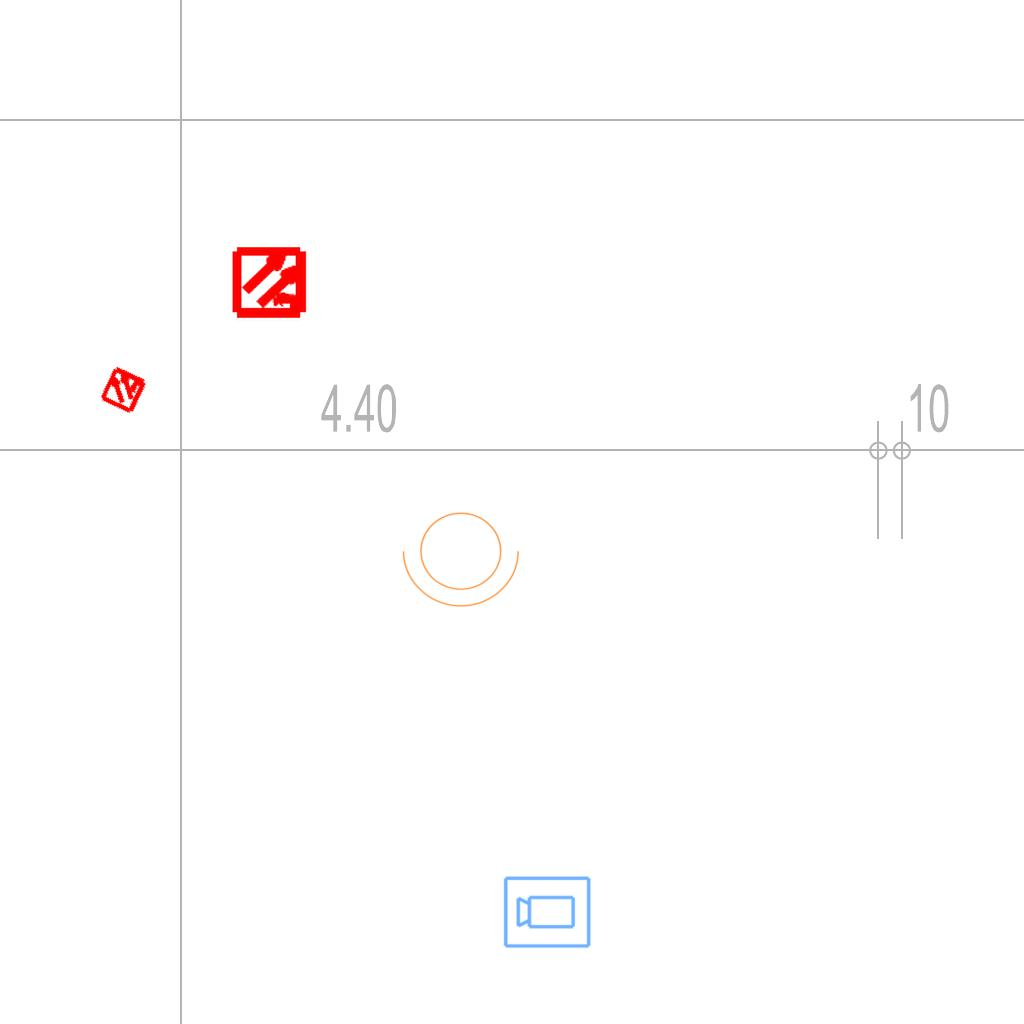KFO_Kamera_mit_Festobjektiv: (502, 873, 593, 950)
OT_Multisensormelder_(Kombination_RMO_WMD): (215, 226, 328, 339), (86, 351, 162, 427)
Scheinwerfer_fuer_Alarmbeleuchtung: (398, 500, 530, 612)
